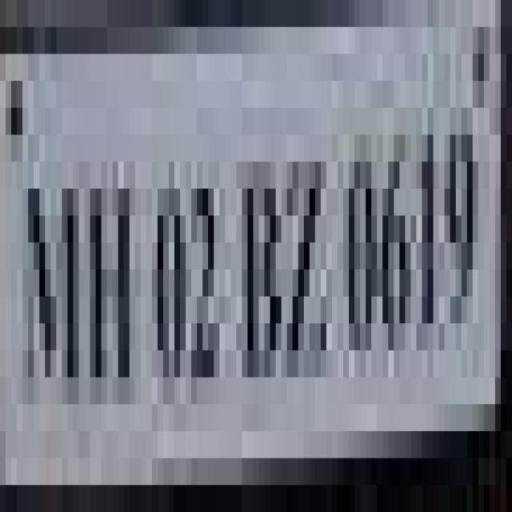number plate: (6, 26, 484, 512)
